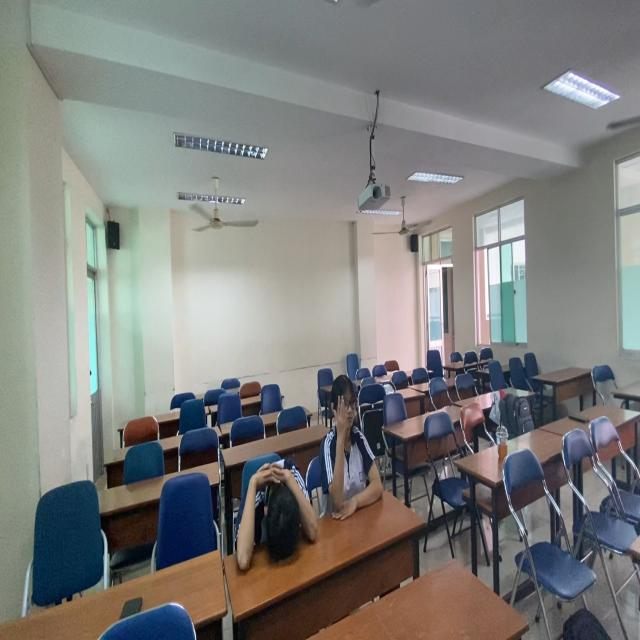raise_hand: (322, 373, 389, 526)
sleep: (230, 454, 326, 577)
